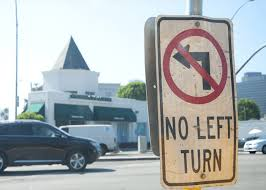No_left_turn: (163, 29, 228, 104)
